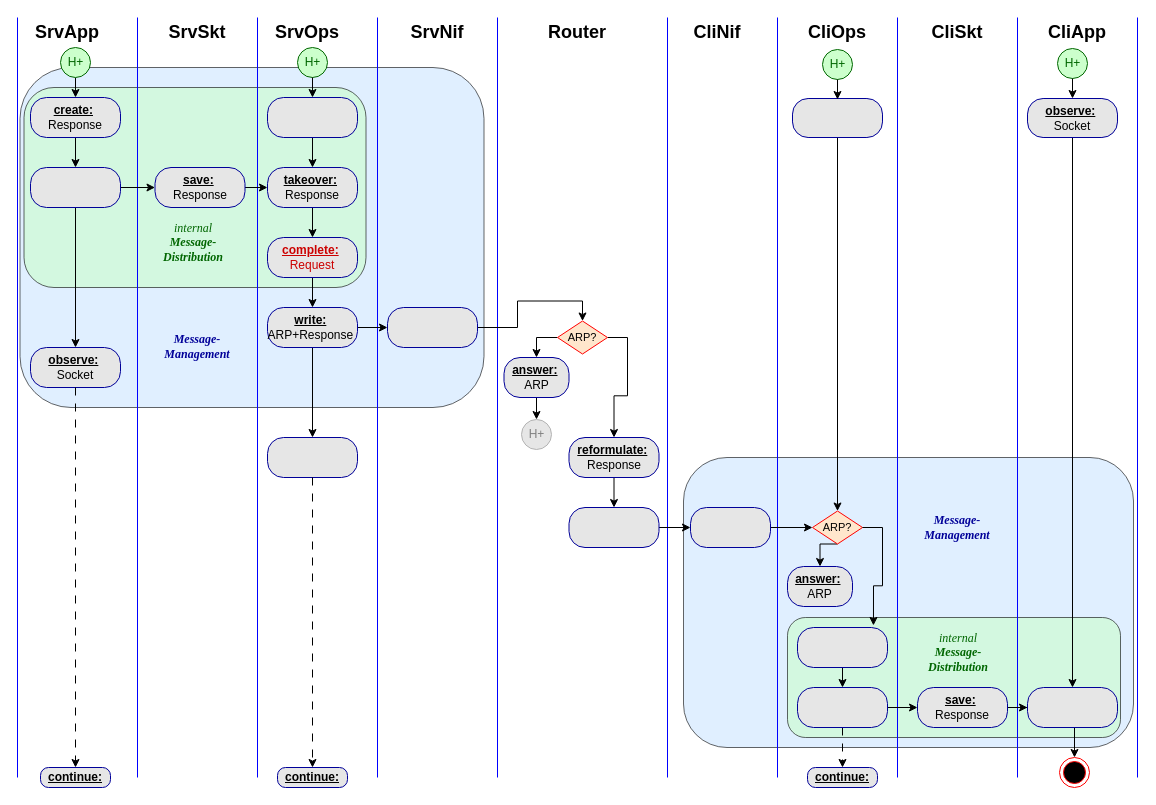
Image size: 1156x805. Some labels were removed from this diagram. Here are the shapes that lost their labels. From the top down, the centre of each, then its label:
point (312, 117): listen: SrvSkt
point (837, 118): observe: N.-Interface
point (75, 187): write: Response
point (432, 327): send: Messages
point (312, 457): manage: income
point (613, 527): write: ARP+Respons e
point (730, 527): receive: Messages
point (842, 647): analyze: DestPort
point (842, 707): write: Respo nse
point (1072, 707): read: Response
